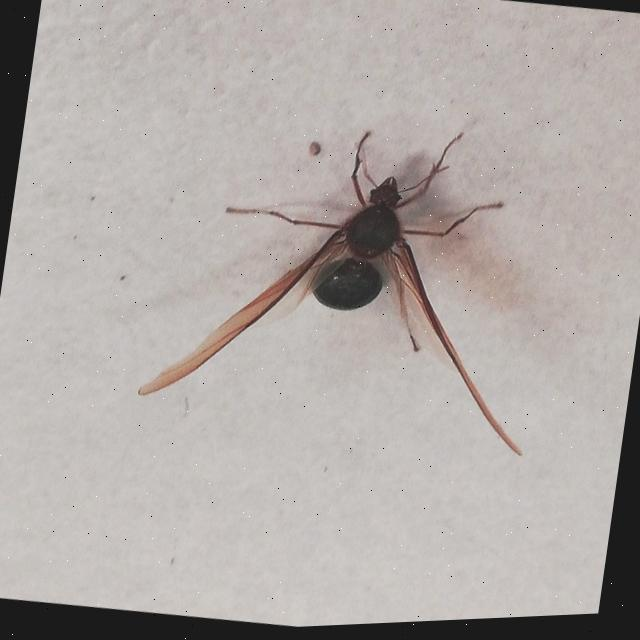Alive-Male-Alate: (134, 92, 566, 475)
